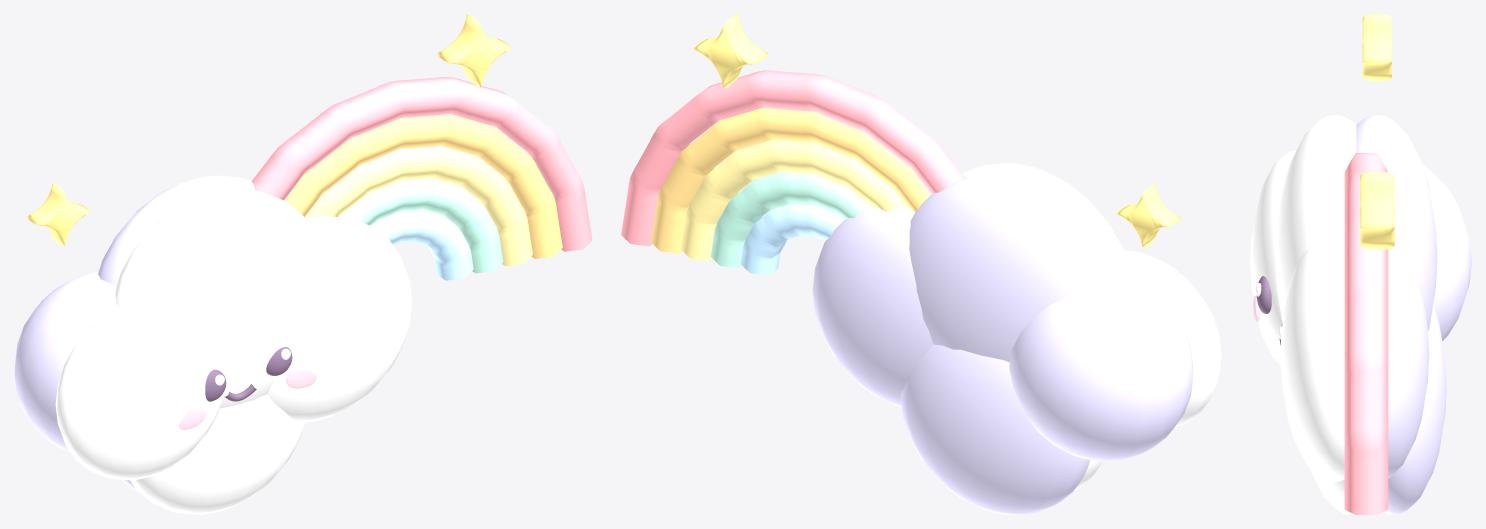
The model's file is life_rainbow.glb.
3 renders of one model, left to right at view 1: azimuth 30°, elevation 25°; view 2: azimuth 150°, elevation 25°; view 3: azimuth 270°, elevation 25°, orthographic. The views are drawn at different scales.
Parts seen in each view (by area): view 1: wrap_rainbow_1; view 2: wrap_rainbow_1; view 3: wrap_rainbow_1, object 1.
Part boxes in pixels (x1,y1,x2,y2): wrap_rainbow_1: (14, 14, 592, 514); wrap_rainbow_1: (621, 14, 1221, 514); wrap_rainbow_1: (1250, 14, 1471, 514); object 1: (1256, 276, 1271, 313).
Bounding box in the file's own units: 4.7 × 3.36 × 1.39.
